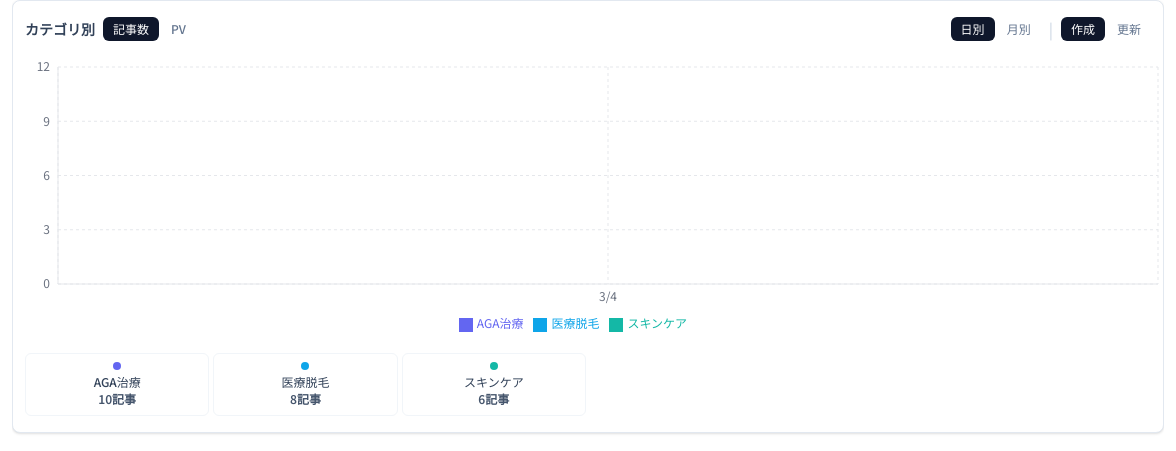
Test: CategoryChart › PVモードでデータが空の場合、PV用の空状態メッセージが表示される
The image size is (1176, 451).
What coordinates should you click on to do the following:
click the button "PV"
I would click on:
 (178, 29)
Its box is x1=161 y1=17 x2=196 y2=41.
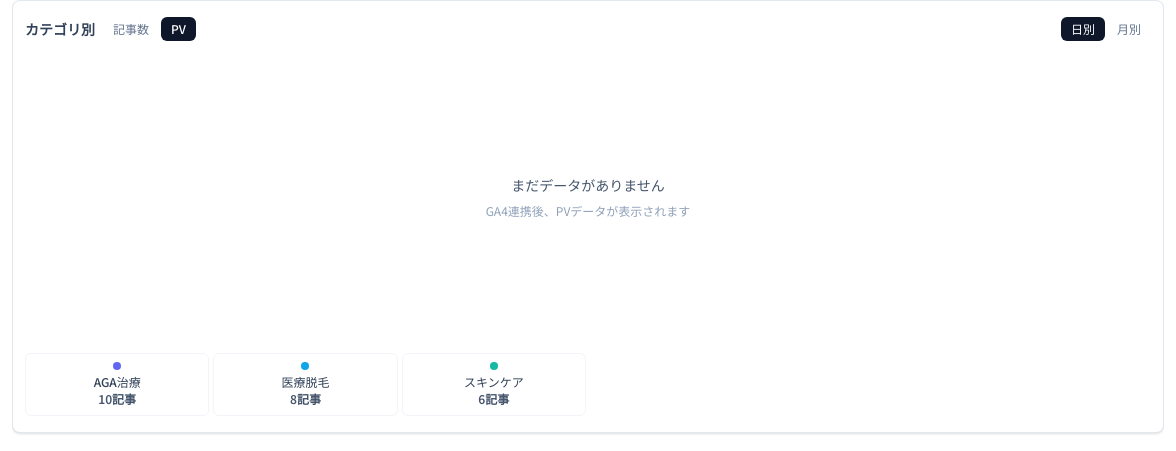
Now the text "まだデータがありません" is shown, box x1=511 y1=175 x2=665 y2=195
Now the text "GA4連携後、PVデータが表示されます" is shown, box x1=486 y1=203 x2=690 y2=219
